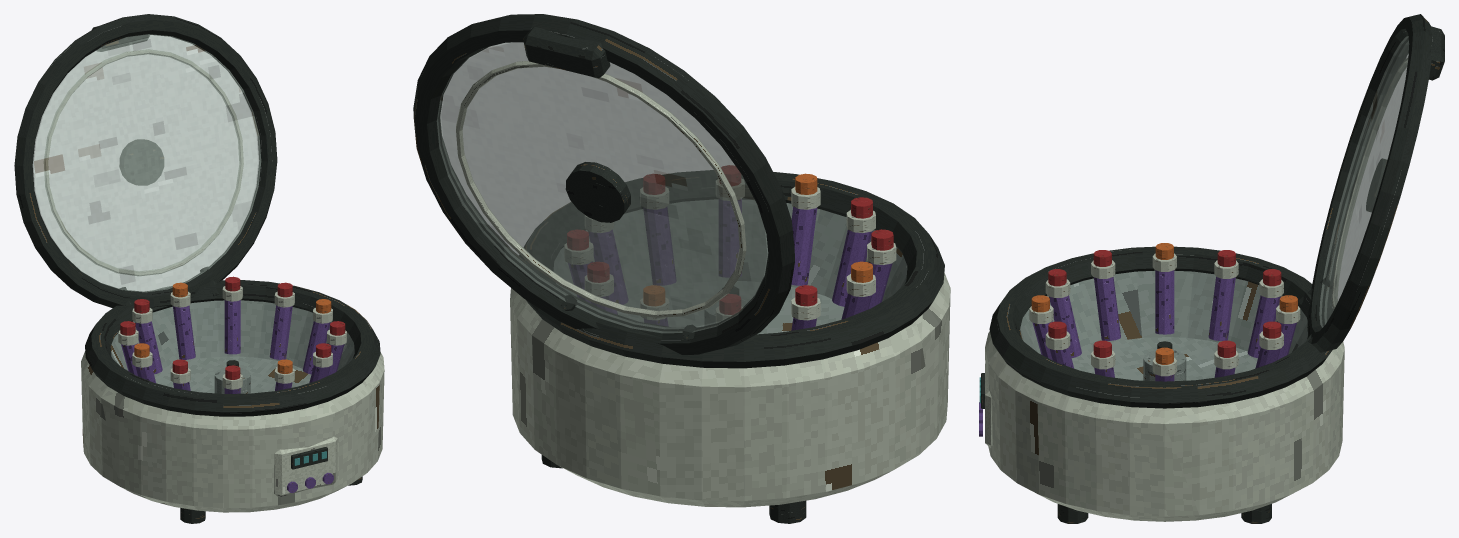
File: centrifuge.glb
3 views of the same model, side by side, from view 1: azimuth 30°, elevation 25°; view 2: azimuth 150°, elevation 25°; view 3: azimuth 270°, elevation 25° (orthographic). The views are drawn at different scales.
Parts seen in each view (by area): view 1: centrifuge; view 2: centrifuge; view 3: centrifuge.
Boxes of the visible parts, left/top/right/bottom form: centrifuge: left=14, top=14, right=384, bottom=523; centrifuge: left=413, top=14, right=950, bottom=523; centrifuge: left=979, top=14, right=1444, bottom=523.
Bounding box in the file's own units: 0.47 × 0.6362 × 0.6082.
8 materials, 8 textured.
